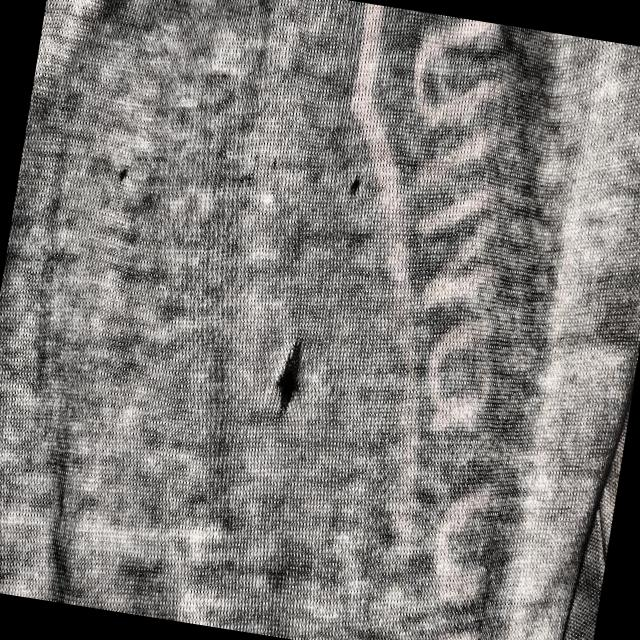cut: (265, 329, 313, 436), (113, 158, 134, 198), (345, 168, 365, 205)
